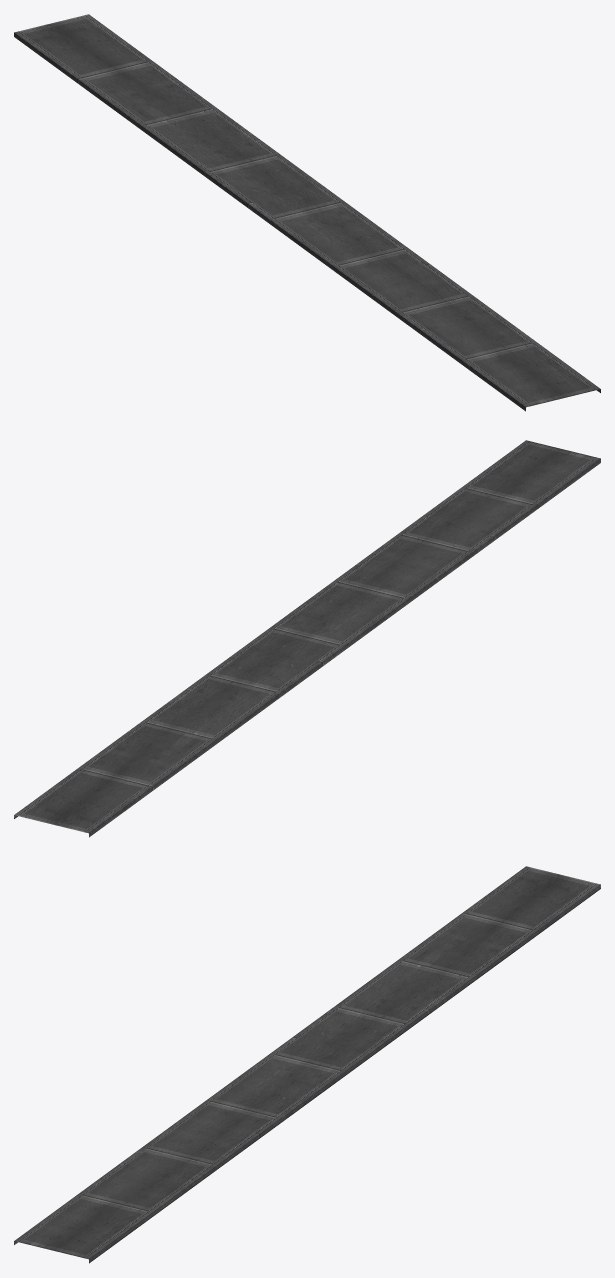
File: Median_6.fbx
3 renders of one model, top to bottom at view 1: azimuth 30°, elevation 25°; view 2: azimuth 150°, elevation 25°; view 3: azimuth 330°, elevation 25°, orthographic.
Visible parts, largest first — view 1: Plane006x; view 2: Plane006x; view 3: Plane006x.
Boxes of the visible parts, <box> form: Plane006x: <box>14,14,600,411</box>; Plane006x: <box>14,440,600,837</box>; Plane006x: <box>14,866,600,1263</box>.
Bounding box in the file's own units: 5.4 × 0.3 × 64.
Materials: 1 (1 with a texture image).
